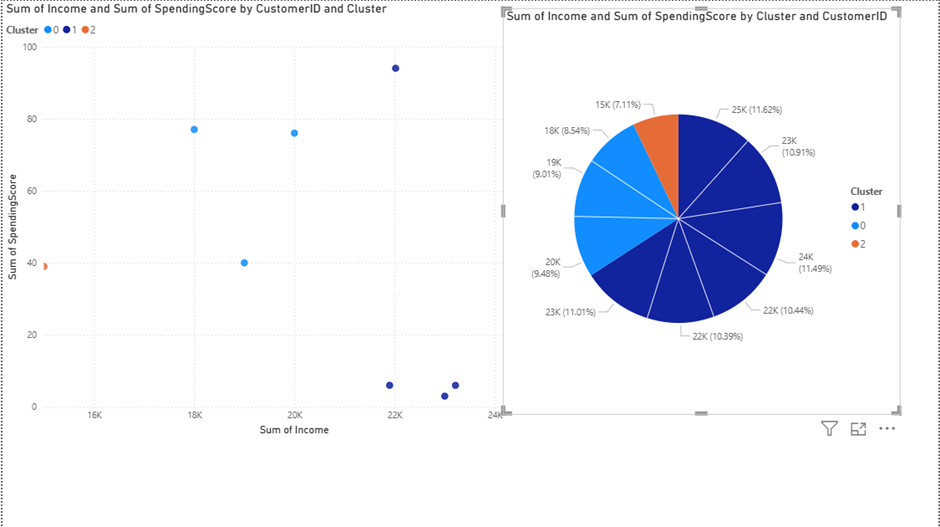

What the dashboard file says about the page in this screenshot:
{"tool":"powerbi","page":{"name":"Page 1","canvas":[1280,720],"ordinal":0},"visuals":[{"type":"scatterChart","fields":{"Category":["customers_clustered.CustomerID"],"X":["Sum(customers_clustered.Income)"],"Series":["customers_clustered.Cluster"],"Y":["Sum(customers_clustered.SpendingScore)"]},"box":[0,0,757.1,598.6],"z":0},{"type":"pieChart","fields":{"Category":["customers_clustered.Cluster"],"Series":["customers_clustered.CustomerID"],"Y":["Sum(customers_clustered.Income)"]},"box":[685,10,543.8,556.2],"z":1}]}

Visuals, with their boxes in screenshot pixels (x1, y1, x2, y2), scaled from the page's 1280x720 canvas onto the 940x527 screenshot:
scatterChart - customers_clustered.CustomerID x Sum(customers_clustered.Income): 0/0/556/438
pieChart - customers_clustered.Cluster x customers_clustered.CustomerID: 503/7/902/414
